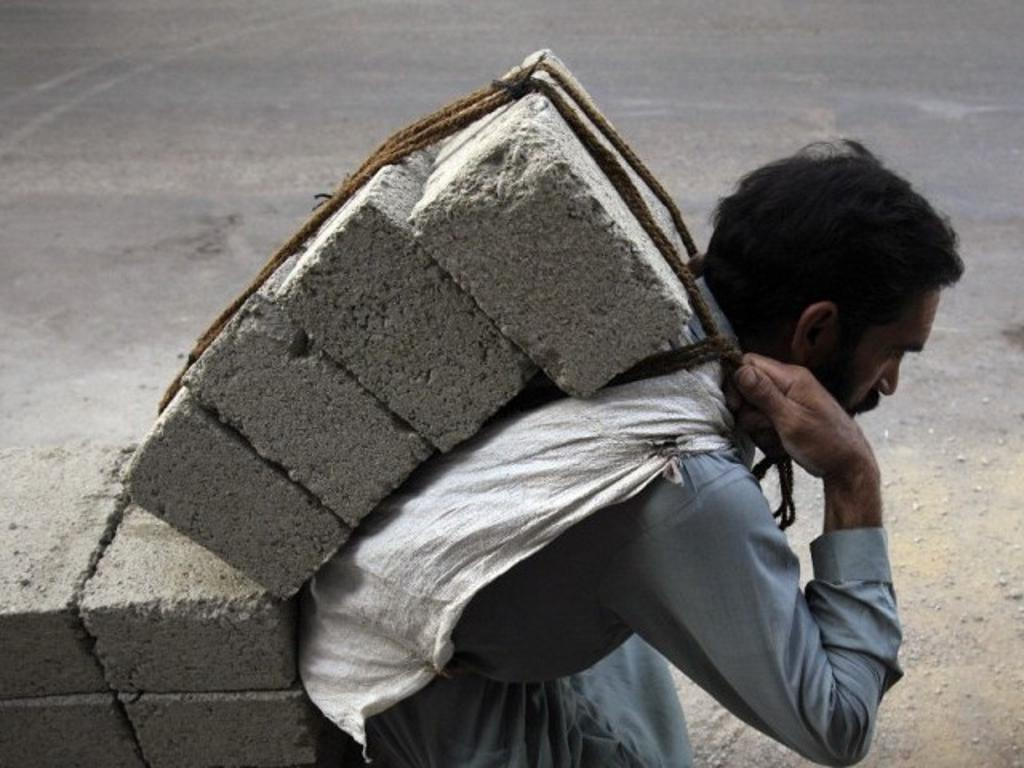face: (812, 268, 936, 436)
